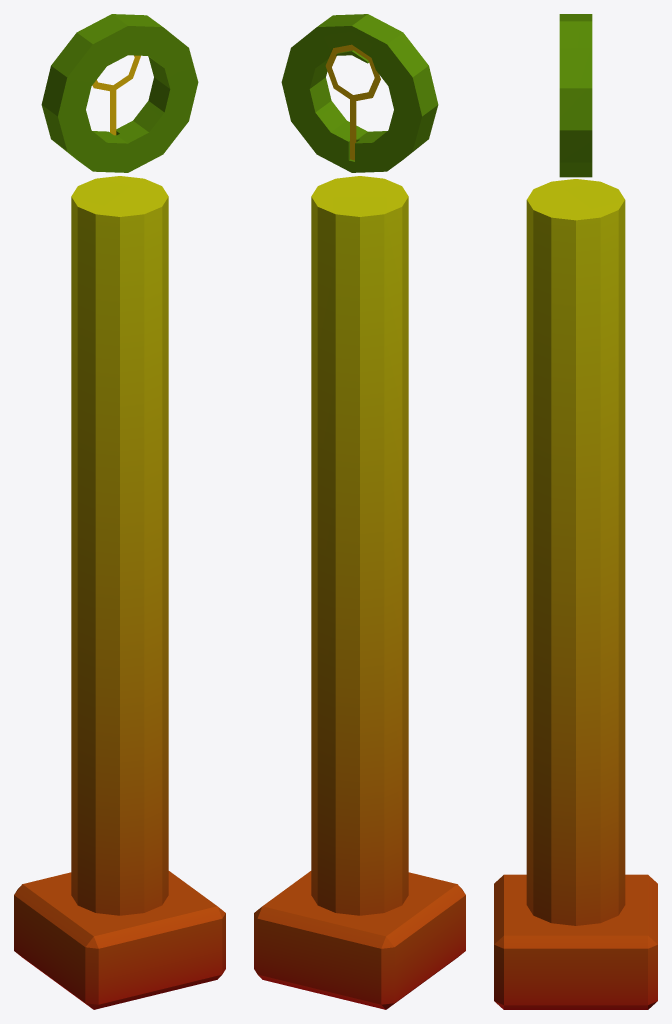
File: lamp_post.glb
The picture shows the model from 3 angles, left to right: view 1: azimuth 30°, elevation 25°; view 2: azimuth 150°, elevation 25°; view 3: azimuth 270°, elevation 25°; orthographic projection.
Parts seen in each view (by area): view 1: lamp_post; view 2: lamp_post; view 3: lamp_post.
Part boxes in pixels (left/top/right/bottom): lamp_post: left=14, top=14, right=225, bottom=1009; lamp_post: left=254, top=14, right=465, bottom=1009; lamp_post: left=494, top=14, right=657, bottom=1009.
Size of what is drawn, in the model's own units: 0.4 by 2.58 by 0.4.
